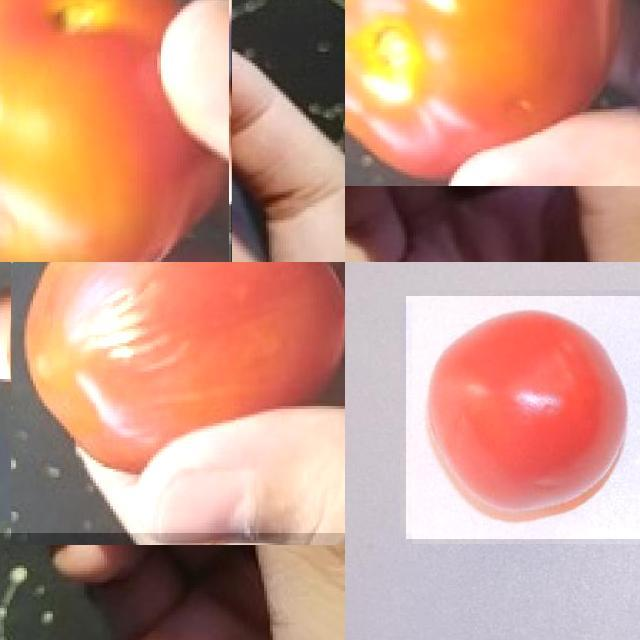Fresh Tomato: (0, 0, 230, 262), (405, 296, 640, 538), (345, 0, 640, 185)
Rotten Tomato: (0, 262, 345, 533)
